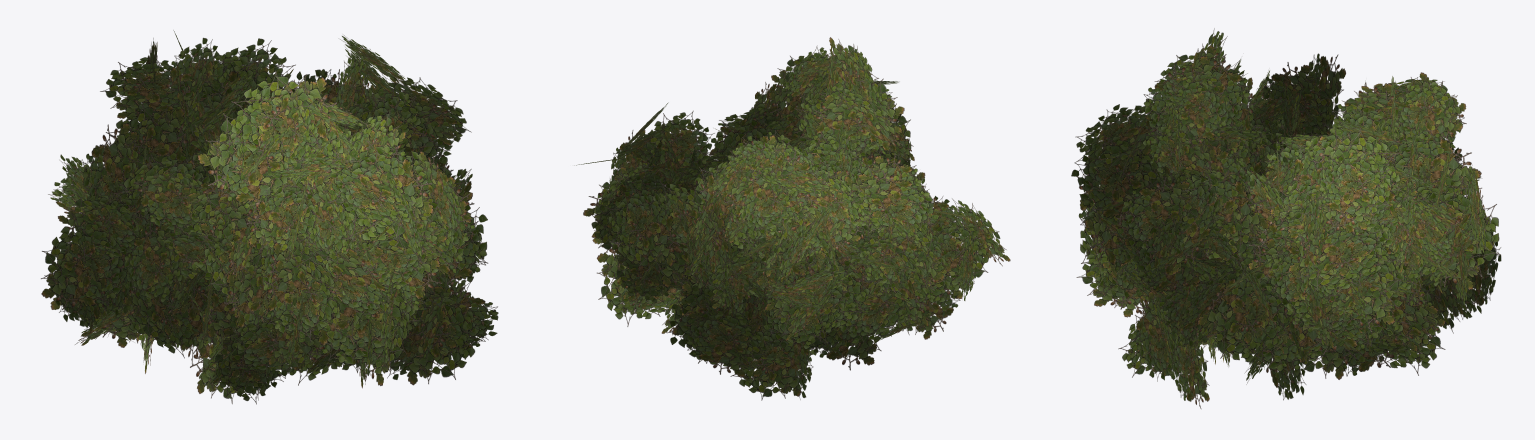
File: bush1_leaves.glb
The picture shows the model from 3 angles, left to right: view 1: azimuth 30°, elevation 25°; view 2: azimuth 150°, elevation 25°; view 3: azimuth 270°, elevation 25°; orthographic projection. The views are drawn at different scales.
Parts seen in each view (by area): view 1: leaves; view 2: leaves; view 3: leaves.
Part boxes in pixels (x1,y1,x2,y2): leaves: [41, 30, 498, 404]; leaves: [576, 37, 1010, 400]; leaves: [1071, 28, 1501, 408].
Size of the model in its own units: 2.52 by 1.81 by 2.13.
1 material, 1 textured.
